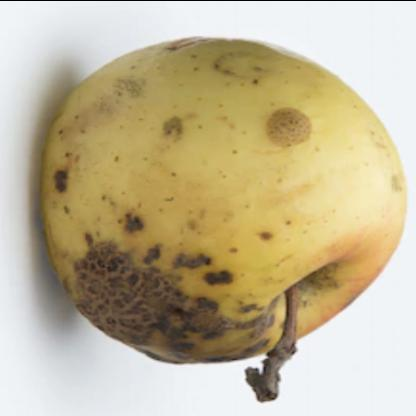Rotten Apple: (41, 35, 405, 363)
